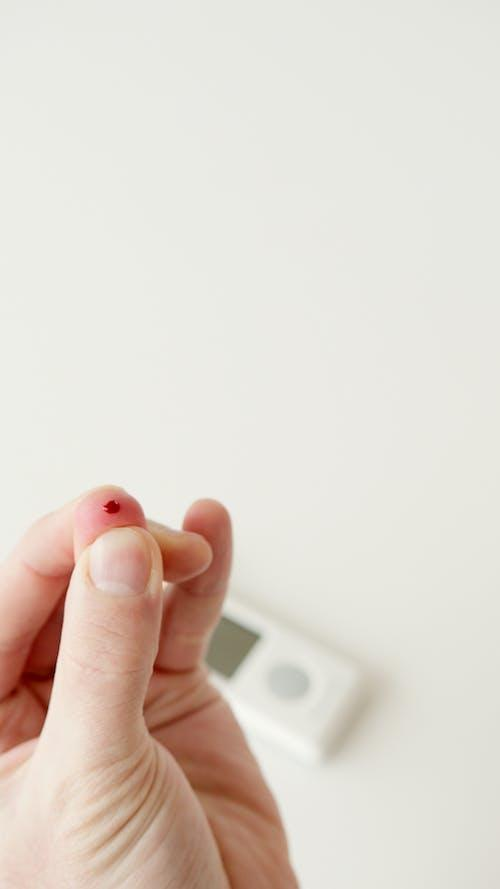Fire: (73, 487, 144, 548)
